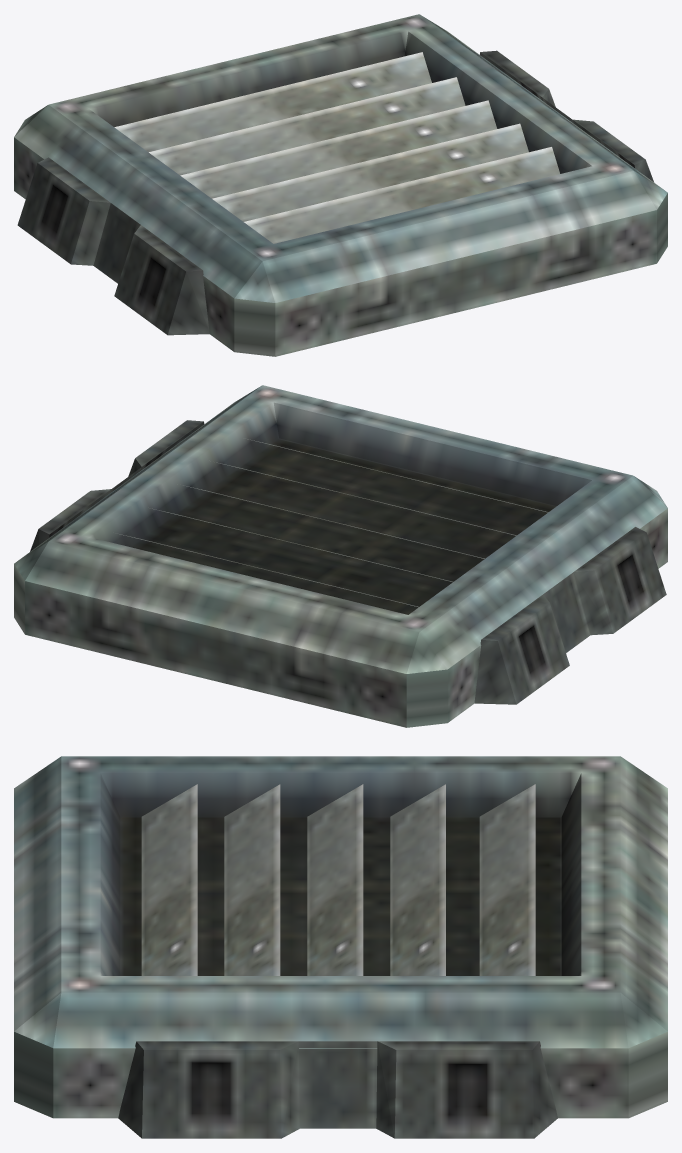
Rendered from Vent_Big.FBX.
3 views of the same model, one above another, from view 1: azimuth 30°, elevation 25°; view 2: azimuth 150°, elevation 25°; view 3: azimuth 270°, elevation 25° (orthographic). The views are drawn at different scales.
Visible parts, largest first — view 1: Vent_Big; view 2: Vent_Big; view 3: Vent_Big.
Boxes of the visible parts, x1,y1,x2,y2 form: Vent_Big: [14, 14, 667, 356]; Vent_Big: [14, 385, 667, 727]; Vent_Big: [14, 756, 667, 1138].
Size of the model in its own units: 230 by 35.67 by 200.
